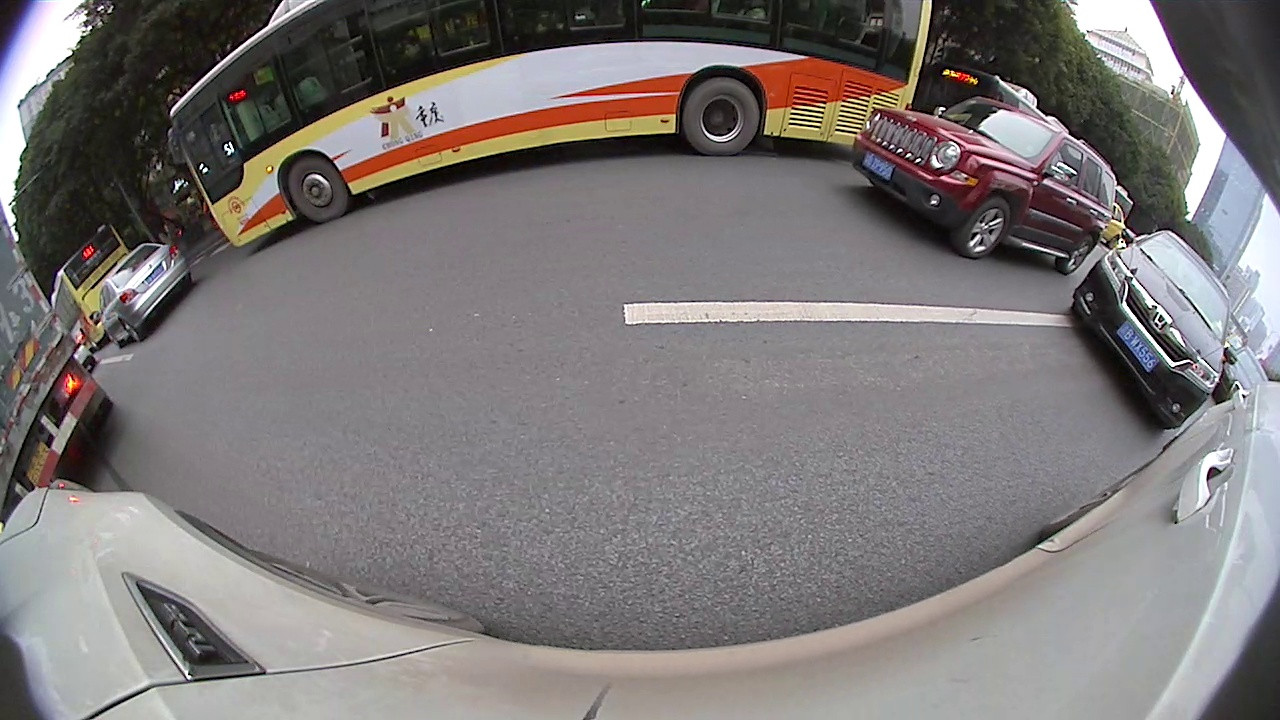bus: (170, 1, 931, 251), (922, 66, 1071, 147), (48, 219, 136, 352)
car: (852, 98, 1119, 279), (1068, 229, 1234, 432), (99, 241, 193, 346)
front: (283, 157, 351, 226), (952, 193, 1012, 261)
rear: (684, 75, 761, 157), (1054, 233, 1097, 276), (120, 318, 143, 341)
truck: (2, 204, 112, 554)
